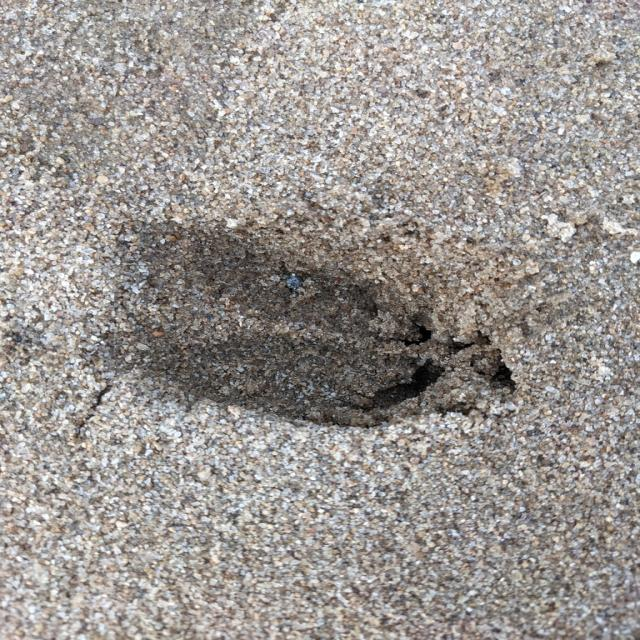deer: (132, 220, 462, 430)
